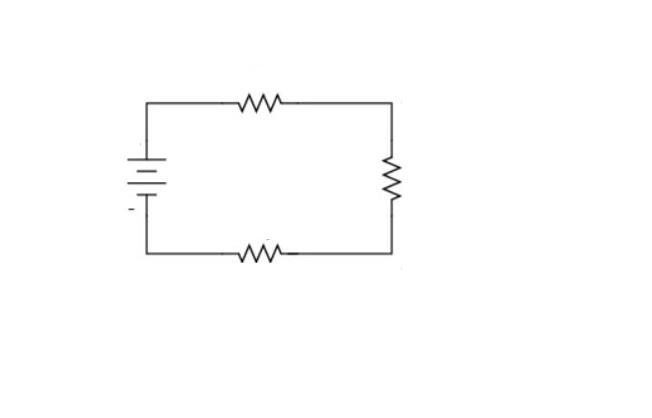resistor: (220, 79, 305, 125), (216, 232, 297, 280), (372, 135, 412, 219)
